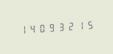five: (87, 17, 96, 31)
four: (27, 22, 36, 35)
nine: (47, 20, 56, 33)
one: (17, 22, 26, 36), (77, 18, 86, 31)
three: (57, 19, 66, 33)
two: (67, 19, 76, 32)
zero: (37, 21, 46, 34)
